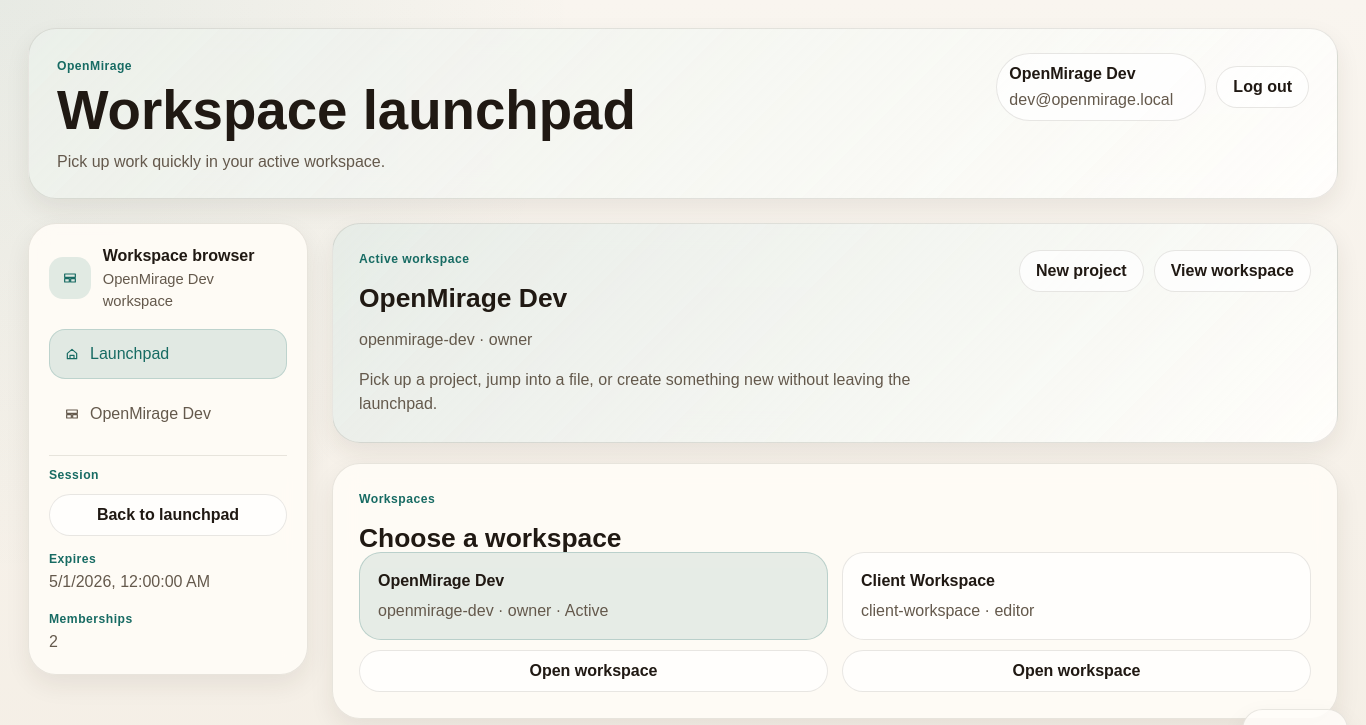
App auth and routing flows › creates a project from the launchpad and keeps the user on /app
This screenshot has width=1366, height=725.
Expected: the heading "OpenMirage Dev" is shown, left=359, top=283, right=567, bottom=313
Click the button "New project".
click(1081, 271)  # box left=1019, top=250, right=1144, bottom=292
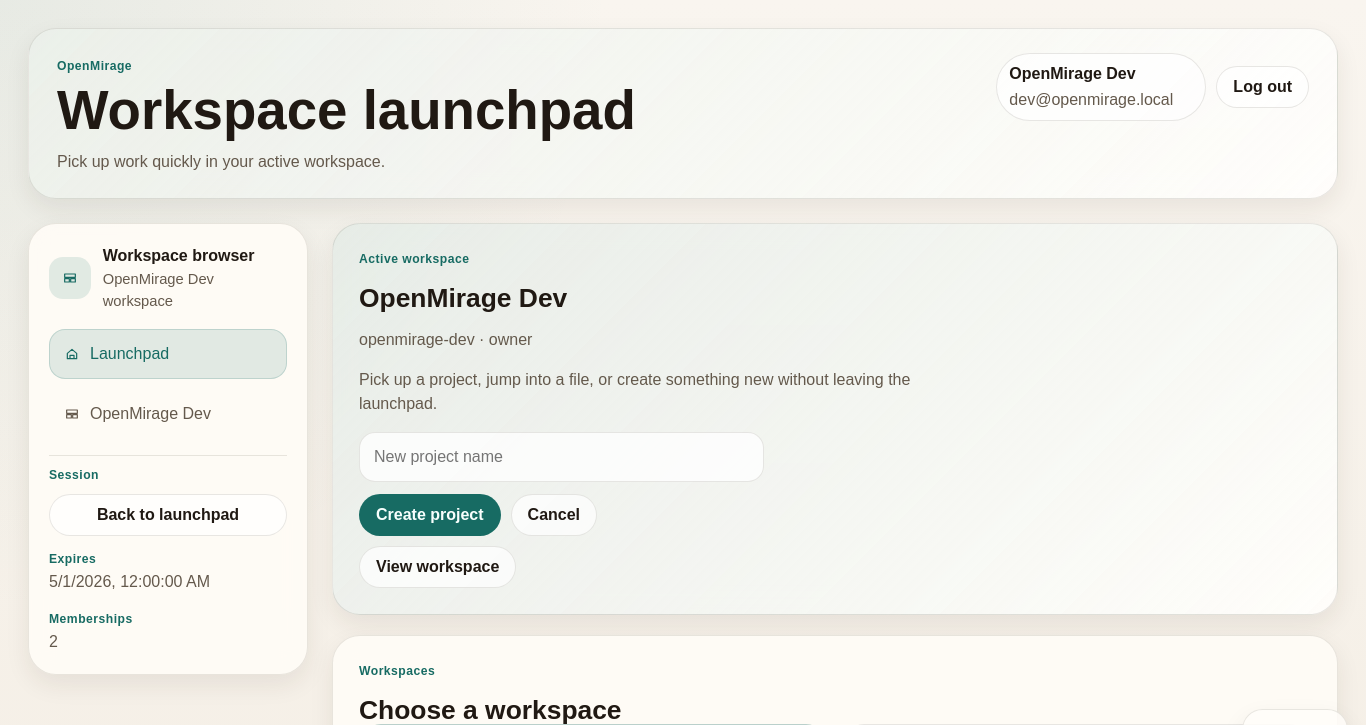
Type "Fresh Launchpad Project" into the field with placeholder "New project name".
click(562, 457); type("Fresh Launchpad Project")  # box left=359, top=432, right=764, bottom=482
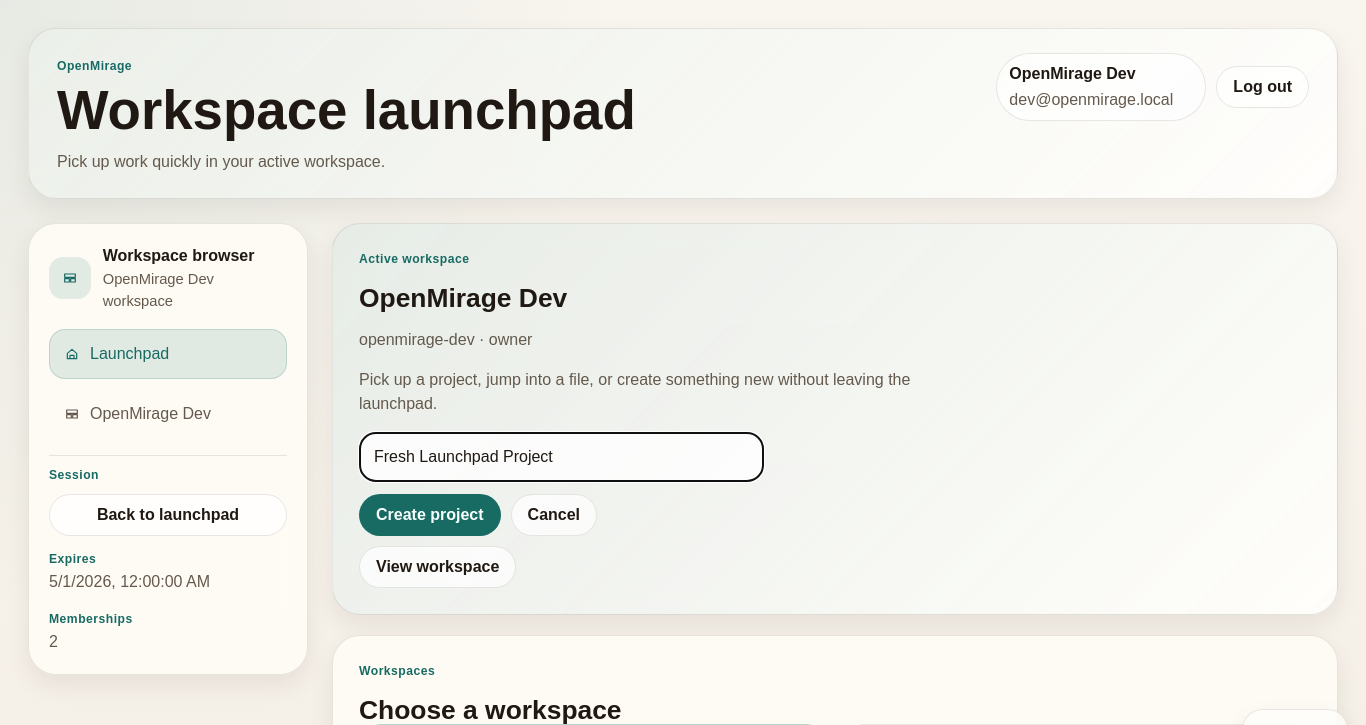
Click the button "Create project".
click(430, 515)  # box left=359, top=494, right=501, bottom=536
(page scrolled)
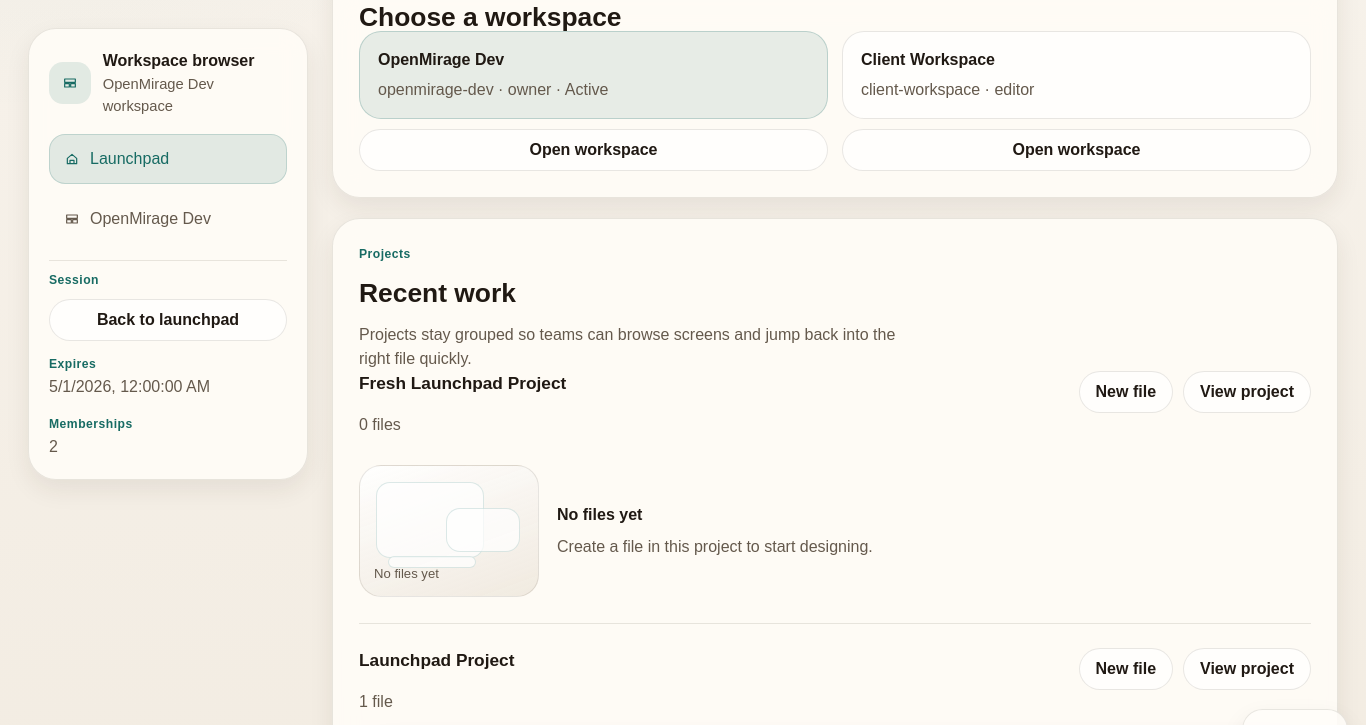
Expected: the heading "Fresh Launchpad Project" is shown, left=359, top=371, right=566, bottom=397
